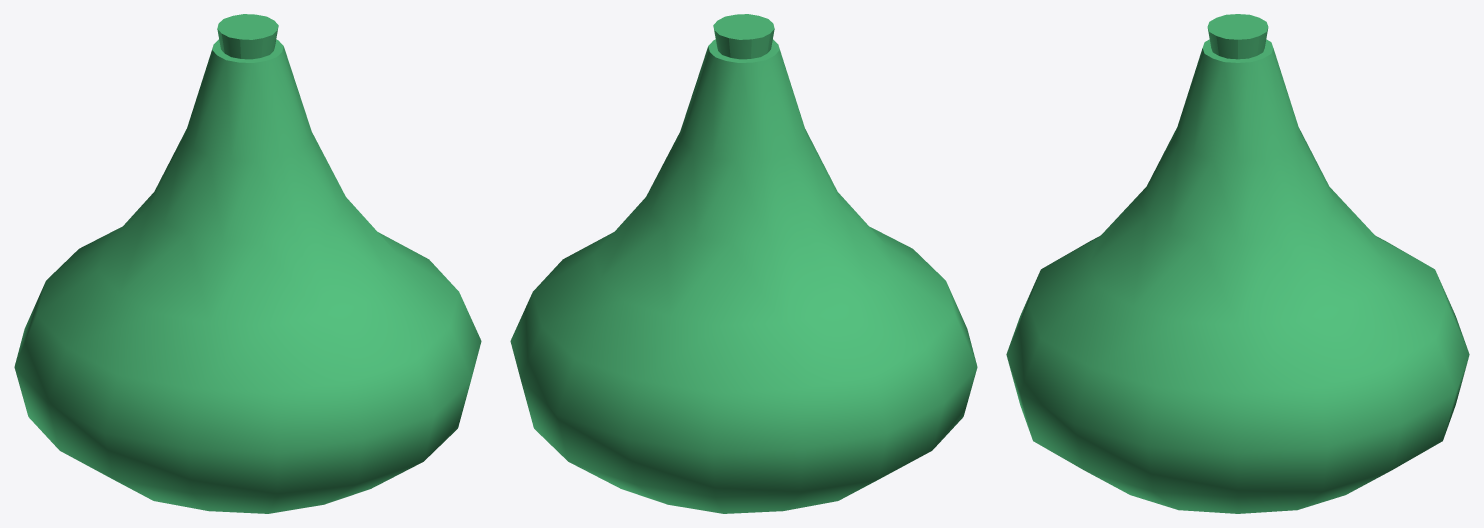
Rendered from pot_02.fbx.
The picture shows the model from 3 angles, left to right: view 1: azimuth 30°, elevation 25°; view 2: azimuth 150°, elevation 25°; view 3: azimuth 270°, elevation 25°; orthographic projection.
Parts seen in each view (by area): view 1: pot1; view 2: pot1; view 3: pot1.
Boxes of the visible parts, x1,y1,x2,y2 form: pot1: (14, 14, 481, 513); pot1: (510, 14, 977, 513); pot1: (1006, 14, 1469, 513).
Bounding box in the file's own units: 0.2467 × 0.2635 × 0.2467.
